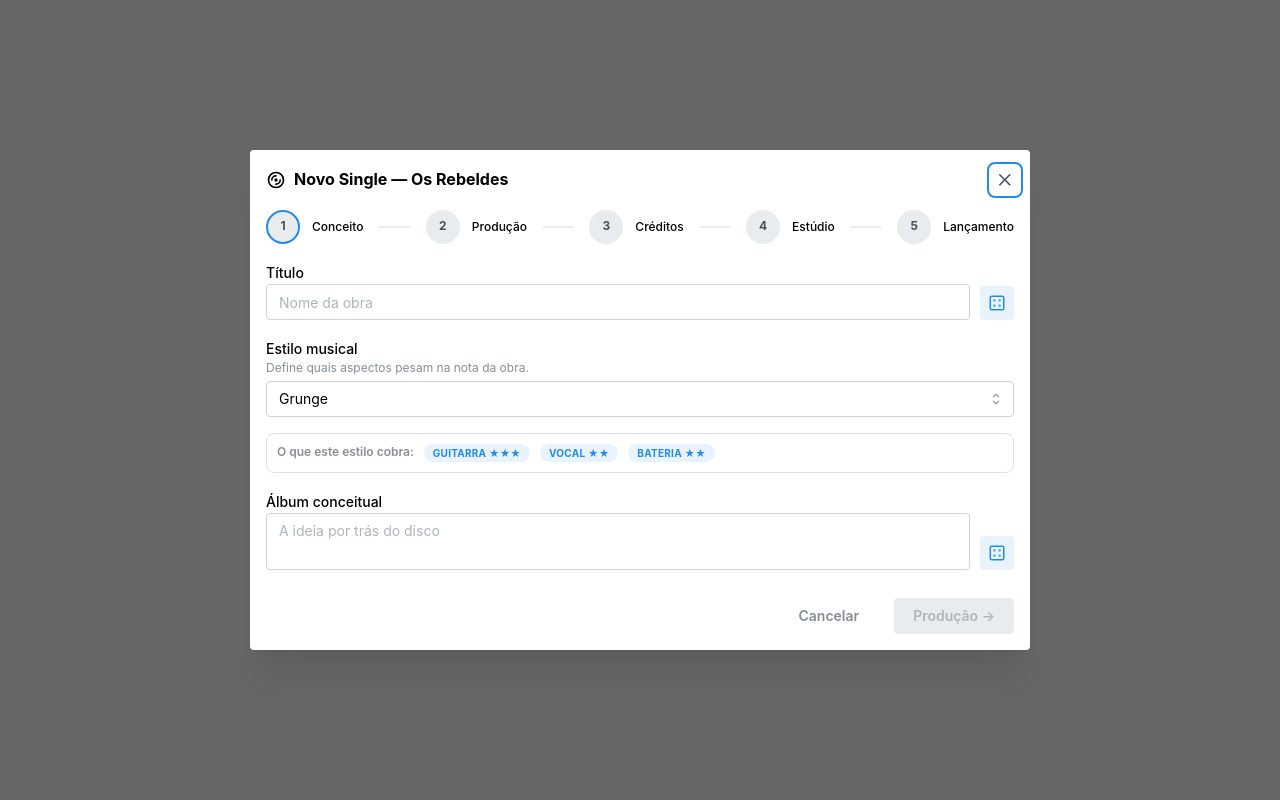
Test: ReleaseCreationModal › puts a musician in hand and drops them on an instrument
The image size is (1280, 800).
Type "Ruído Branco" into the field labelled "Título".
click(618, 302); type("Ruído Branco")  # box x1=266 y1=284 x2=970 y2=320
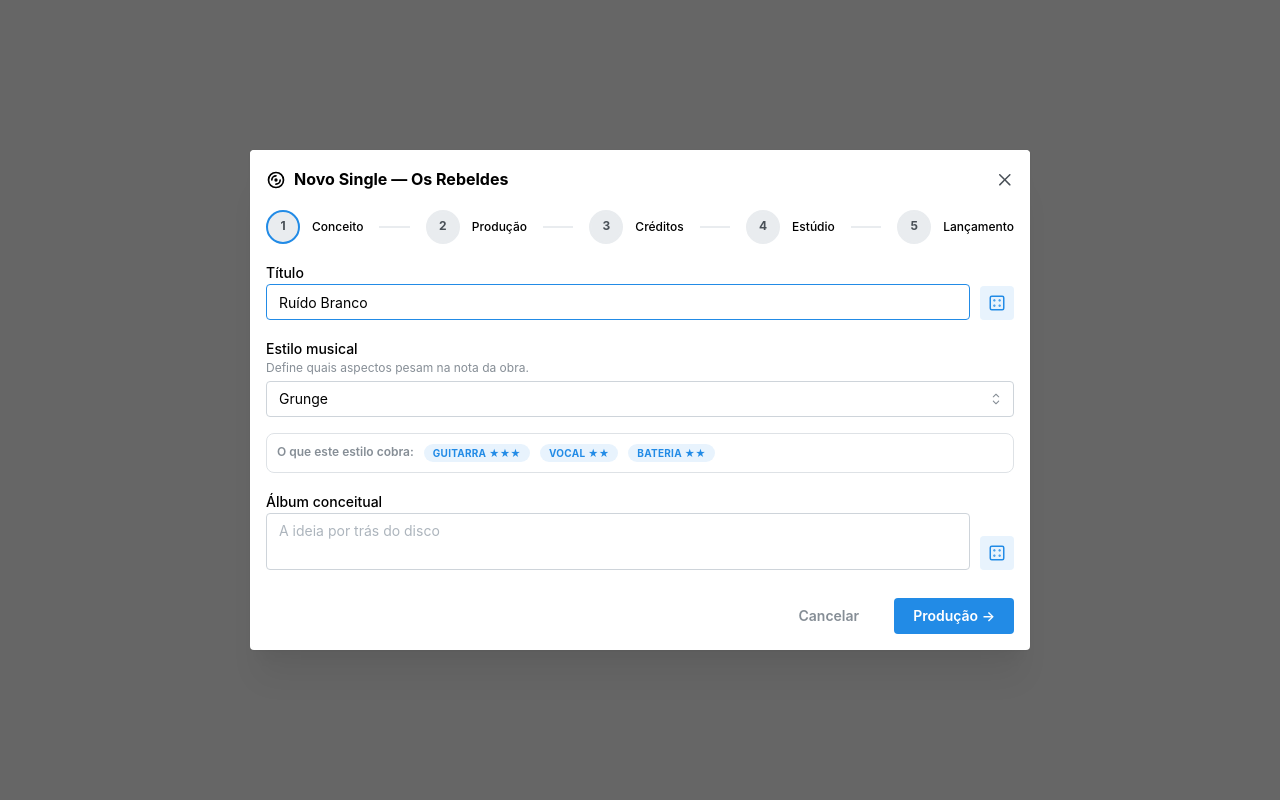
Click the button "Produção →".
click(954, 616)  # box x1=894 y1=598 x2=1014 y2=634
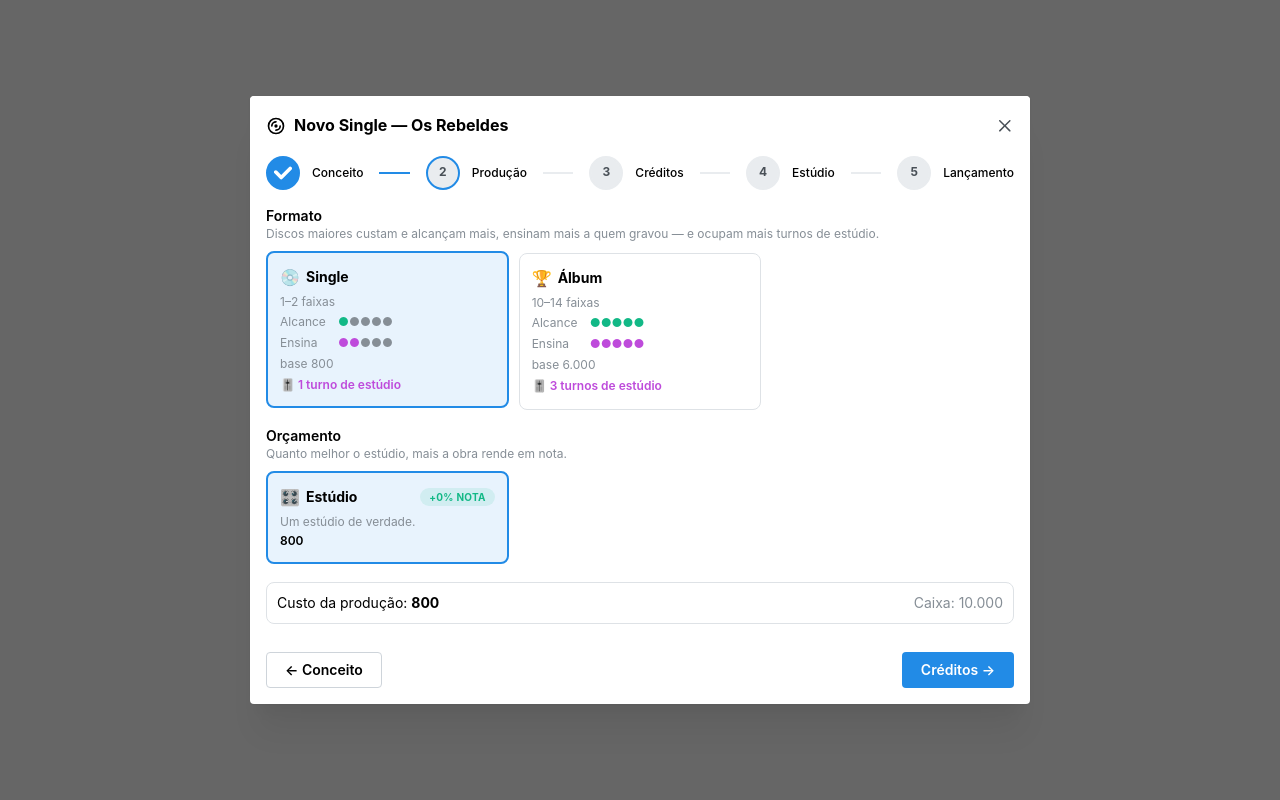
Click the button "Créditos →".
click(958, 670)  # box x1=902 y1=652 x2=1014 y2=688
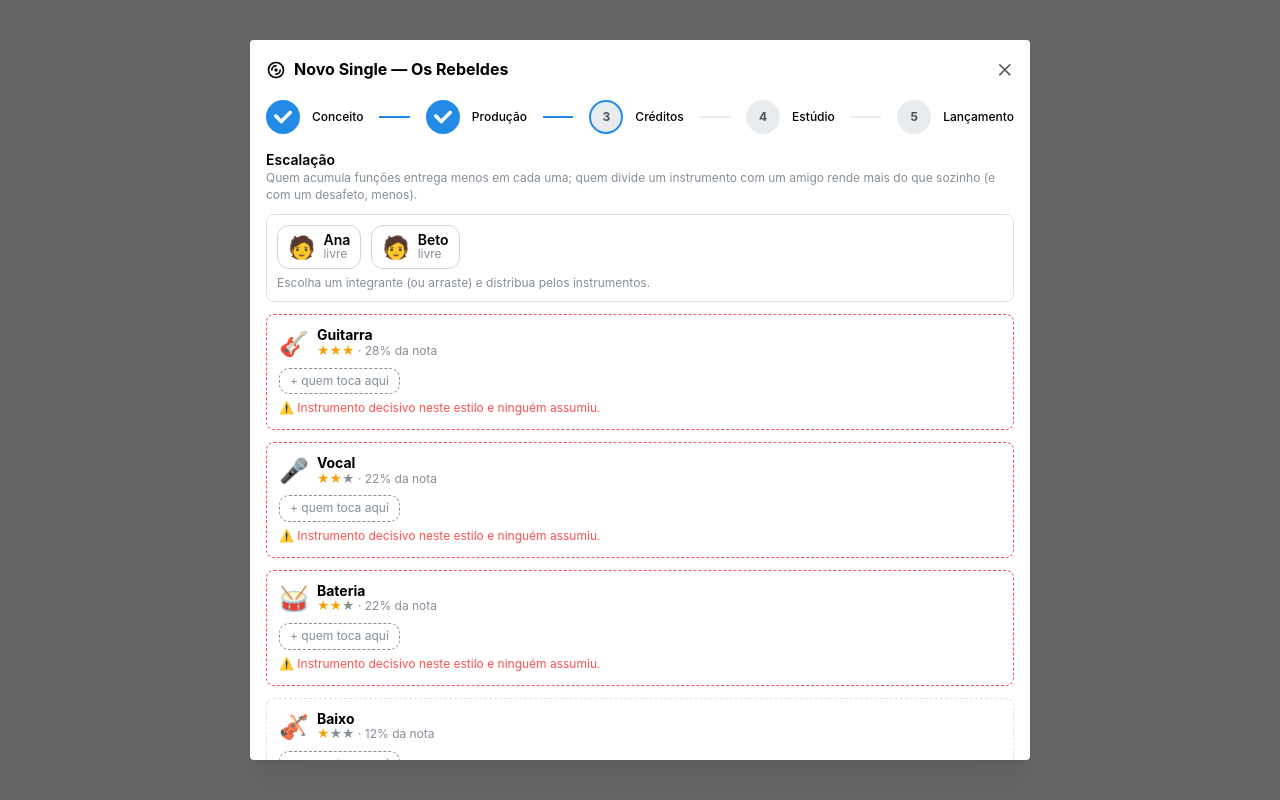
Note: Pick Ana up: every instrument then offers what she is worth there.
Click the button with aria-label "Selecionar Ana".
click(319, 247)  # box x1=277 y1=225 x2=361 y2=269
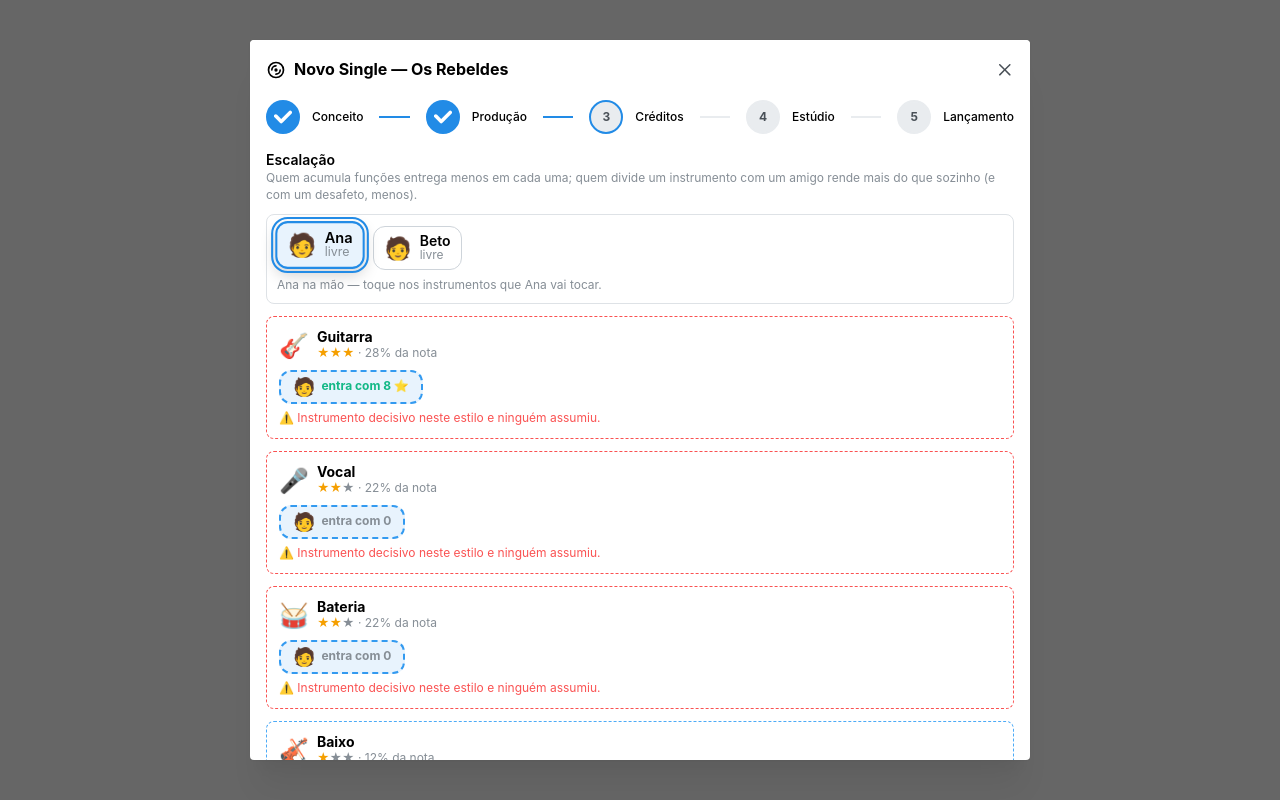
Check: the button with aria-label "Creditar Ana em Guitarra" is shown
Click the button with aria-label "Creditar Ana em Guitarra".
click(351, 387)  # box x1=279 y1=370 x2=423 y2=404
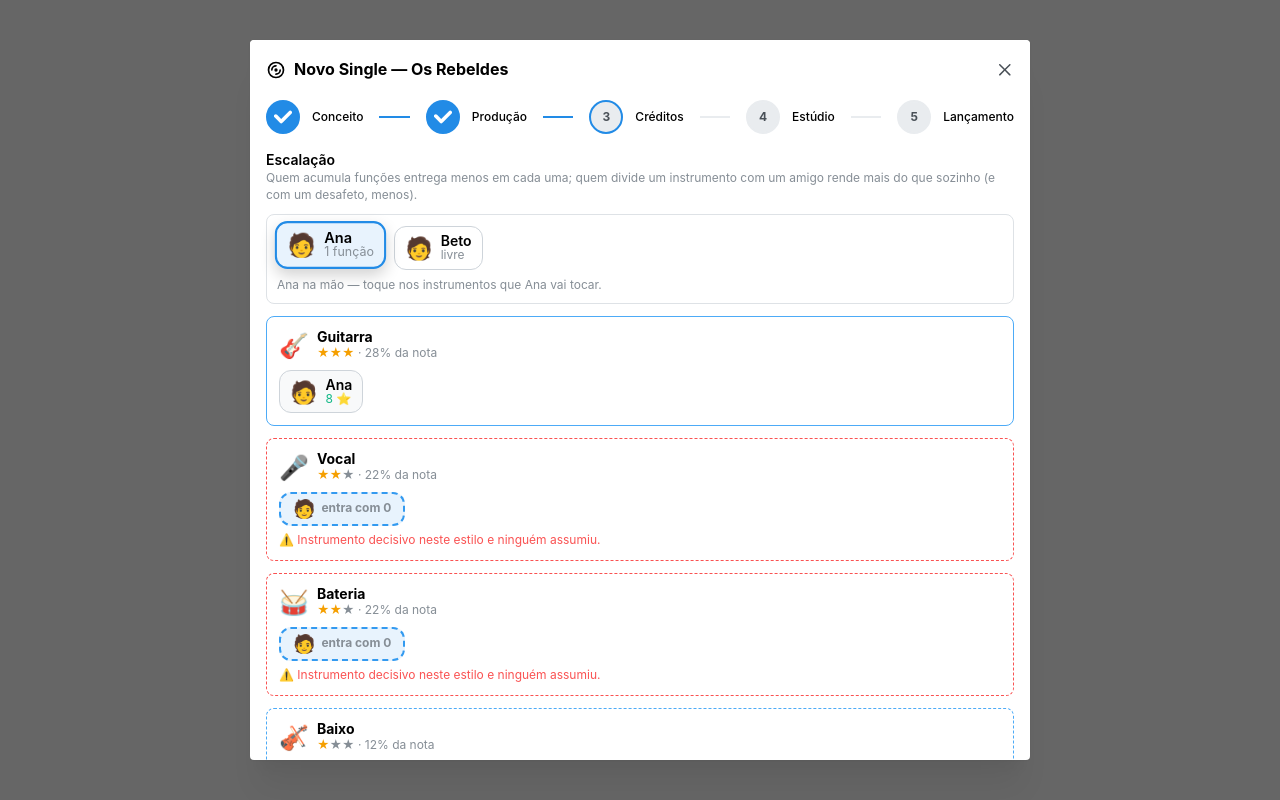
Check: the button with aria-label "Remover Ana de Guitarra" is shown, box x1=279 y1=370 x2=363 y2=414
